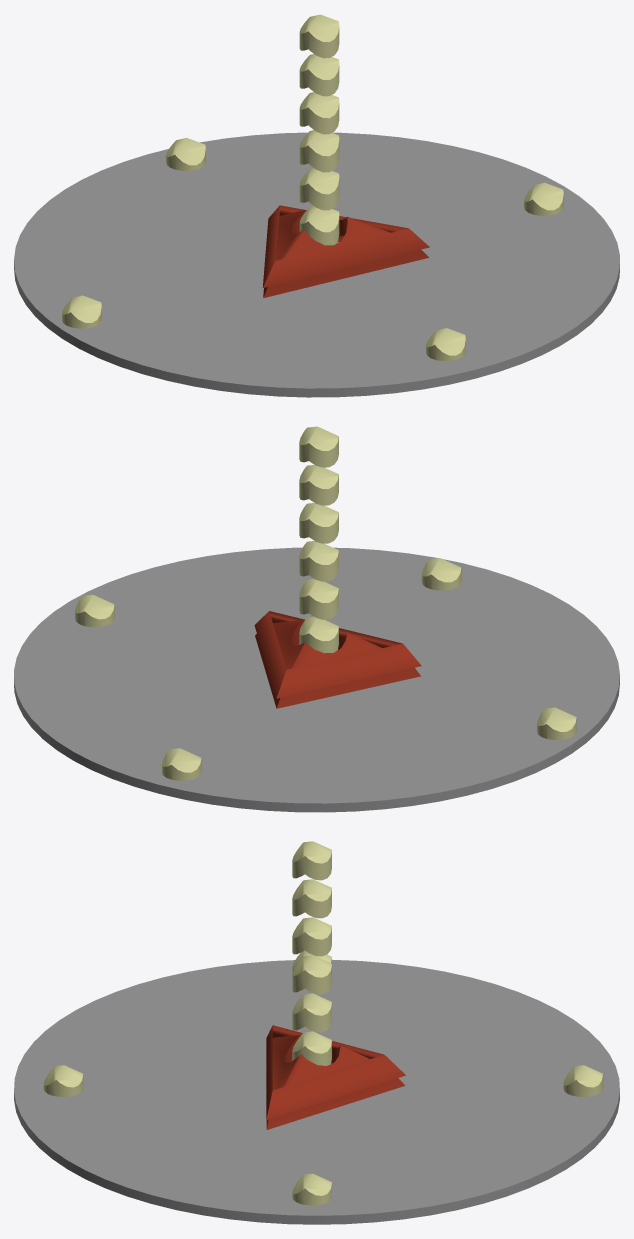
Rendered from chargeStation.FBX.
The picture shows the model from 3 angles, top to bottom: view 1: azimuth 30°, elevation 25°; view 2: azimuth 150°, elevation 25°; view 3: azimuth 270°, elevation 25°; orthographic projection.
Visible parts, largest first — view 1: Cylinder001, Prism001, asd005, asd001, asd003, asd002, asd004, asd, asd006, asd007, asd009, asd008; view 2: Cylinder001, Prism001, asd005, asd002, asd001, asd003, asd004, asd, asd009, asd008, asd007, asd006; view 3: Cylinder001, Prism001, asd004, asd002, asd001, asd003, asd005, asd008, asd009, asd, asd007.
Boxes of the visible parts, bbox=[...] form: Cylinder001: bbox=[14, 132, 619, 397]; Prism001: bbox=[262, 205, 429, 297]; asd005: bbox=[299, 14, 339, 58]; asd001: bbox=[299, 168, 339, 210]; asd003: bbox=[299, 92, 339, 134]; asd002: bbox=[299, 130, 339, 172]; asd004: bbox=[299, 54, 339, 96]; asd: bbox=[299, 206, 339, 245]; asd006: bbox=[62, 295, 101, 328]; asd007: bbox=[524, 182, 563, 215]; asd009: bbox=[426, 328, 465, 360]; asd008: bbox=[166, 138, 205, 170]; Cylinder001: bbox=[14, 547, 619, 812]; Prism001: bbox=[254, 611, 421, 708]; asd005: bbox=[299, 426, 338, 467]; asd002: bbox=[299, 541, 338, 581]; asd001: bbox=[299, 579, 338, 619]; asd003: bbox=[299, 503, 338, 543]; asd004: bbox=[299, 465, 338, 505]; asd: bbox=[299, 617, 338, 653]; asd009: bbox=[421, 558, 461, 590]; asd008: bbox=[162, 748, 201, 780]; asd007: bbox=[75, 594, 114, 627]; asd006: bbox=[537, 707, 576, 739]; Cylinder001: bbox=[14, 959, 619, 1224]; Prism001: bbox=[266, 1025, 405, 1129]; asd004: bbox=[292, 879, 331, 918]; asd002: bbox=[292, 955, 331, 994]; asd001: bbox=[292, 993, 331, 1032]; asd003: bbox=[292, 917, 331, 956]; asd005: bbox=[292, 841, 331, 880]; asd008: bbox=[563, 1065, 603, 1096]; asd009: bbox=[43, 1065, 83, 1096]; asd: bbox=[292, 1031, 331, 1065]; asd007: bbox=[292, 1173, 331, 1205].
Size of the model in its own units: 1.66 by 0.7802 by 1.66.
